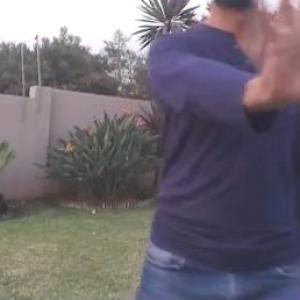follow_hand: (244, 0, 299, 111)
